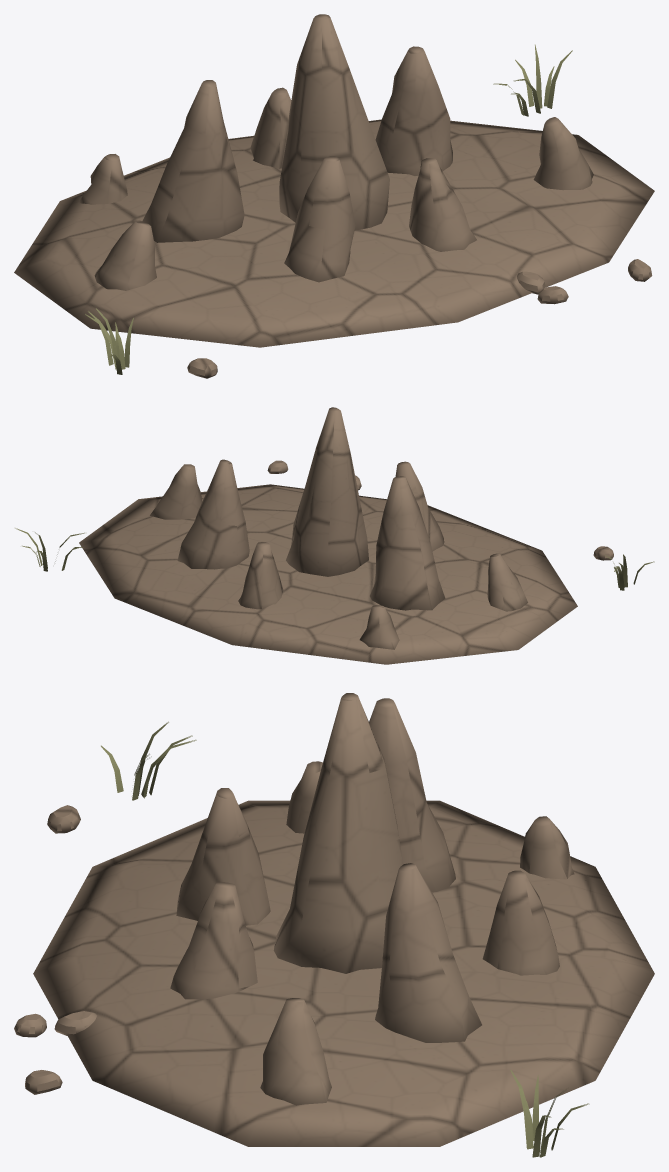
The model's file is termite_spires_low.glb.
The picture shows the model from 3 angles, top to bottom: view 1: azimuth 30°, elevation 25°; view 2: azimuth 150°, elevation 25°; view 3: azimuth 270°, elevation 25°; orthographic projection. The views are drawn at different scales.
Parts seen in each view (by area): view 1: termite_spires_low; view 2: termite_spires_low; view 3: termite_spires_low.
Boxes of the visible parts, x1,y1,x2,y2 form: termite_spires_low: [14, 14, 654, 378]; termite_spires_low: [15, 407, 654, 664]; termite_spires_low: [14, 693, 654, 1157].
Size of the model in its own units: 3.9 by 1.39 by 2.68.
2 materials, 2 textured.
